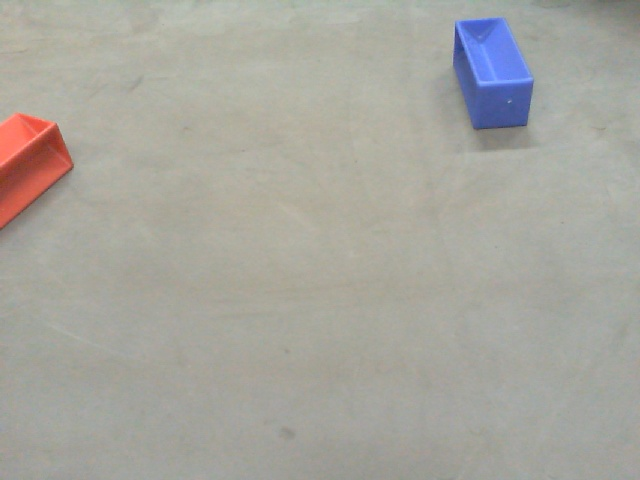BlueSample: (453, 14, 533, 130)
RedSample: (1, 113, 75, 229)
